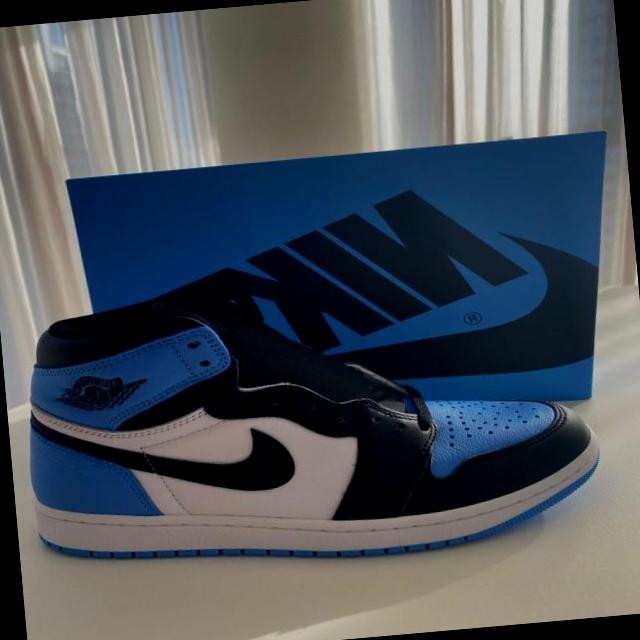nike_original_jordan: (8, 240, 610, 588)
